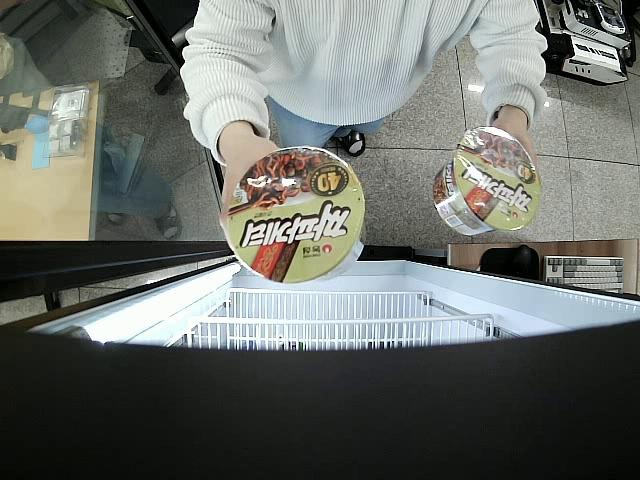00_hand: (219, 143, 284, 234), (489, 117, 543, 193)
03_chapagetti_L: (231, 147, 365, 279), (427, 127, 538, 238)
